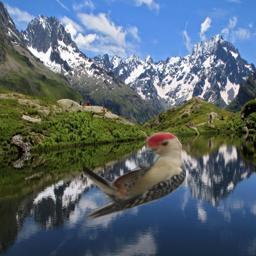Woodpecker: (83, 132, 186, 222)
